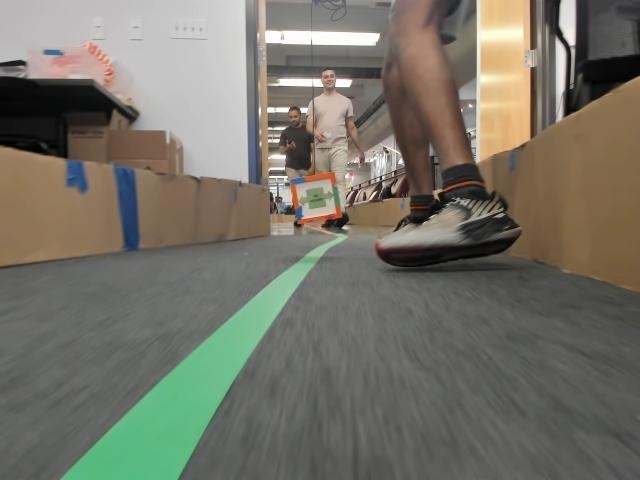Go Around: (297, 191, 331, 210)
